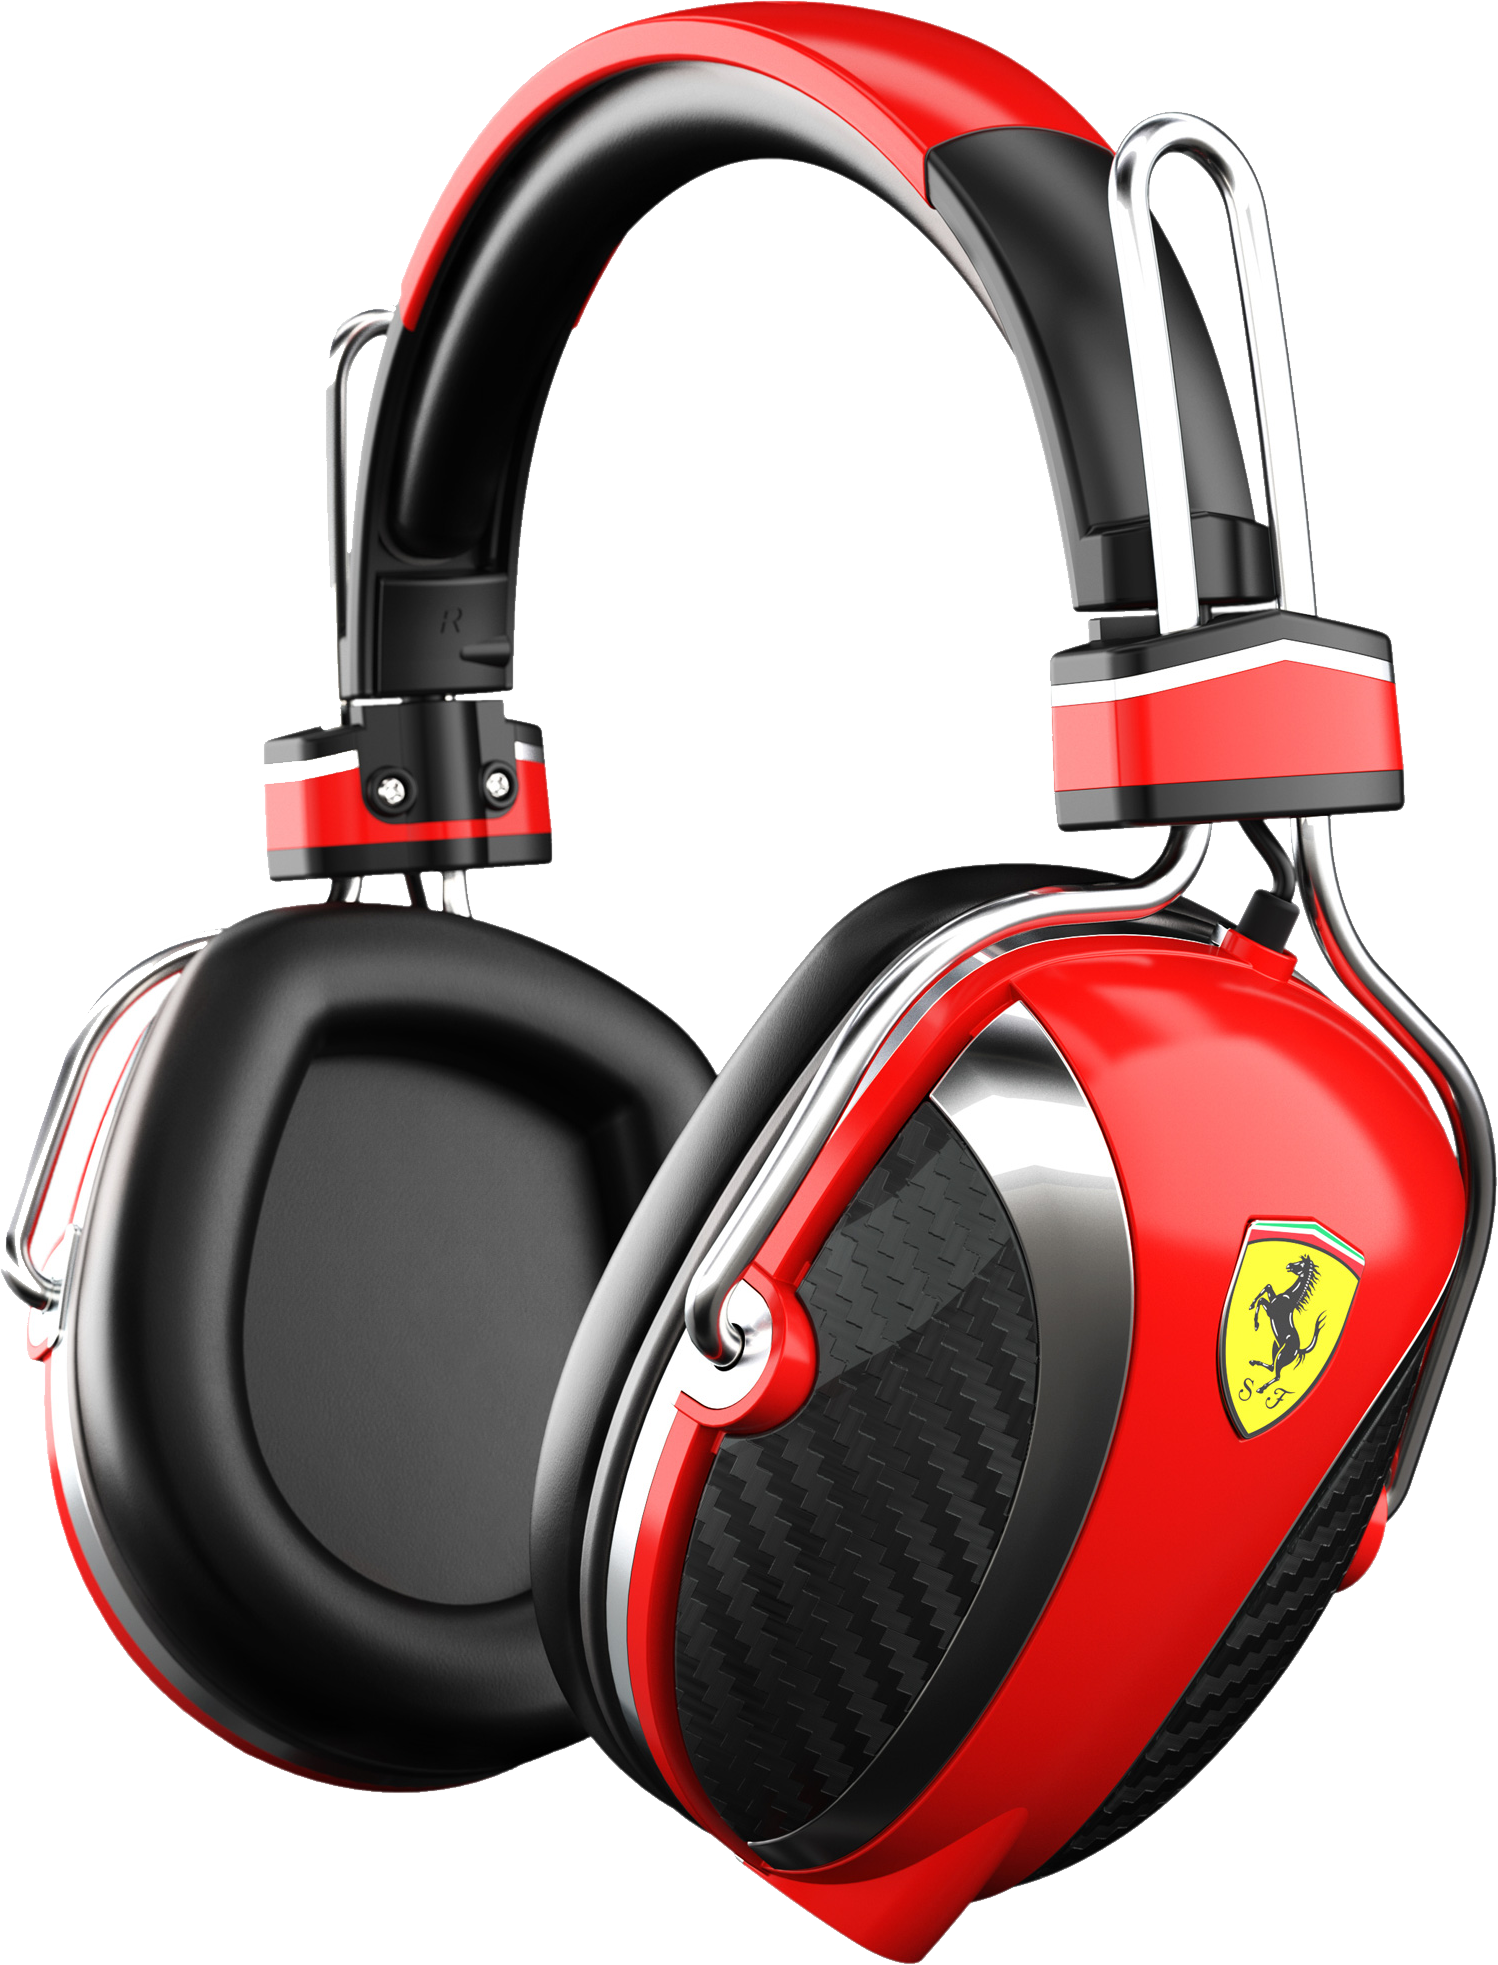headphone: (44, 17, 1471, 1965)
